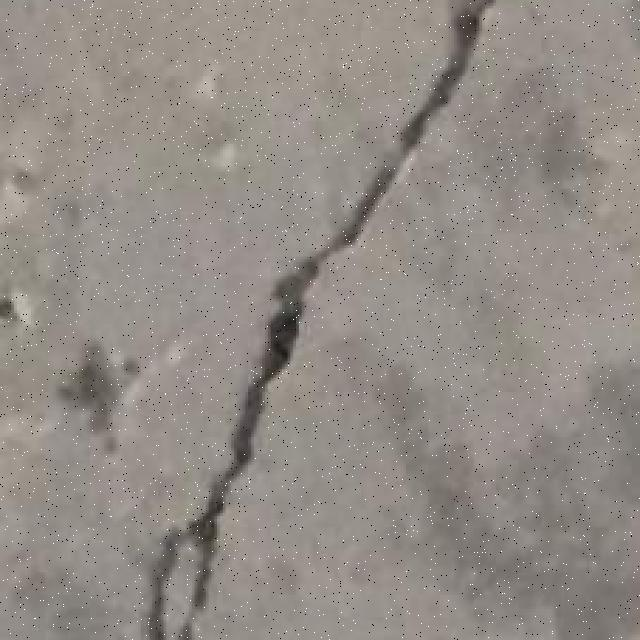Crack: (145, 0, 490, 637)
